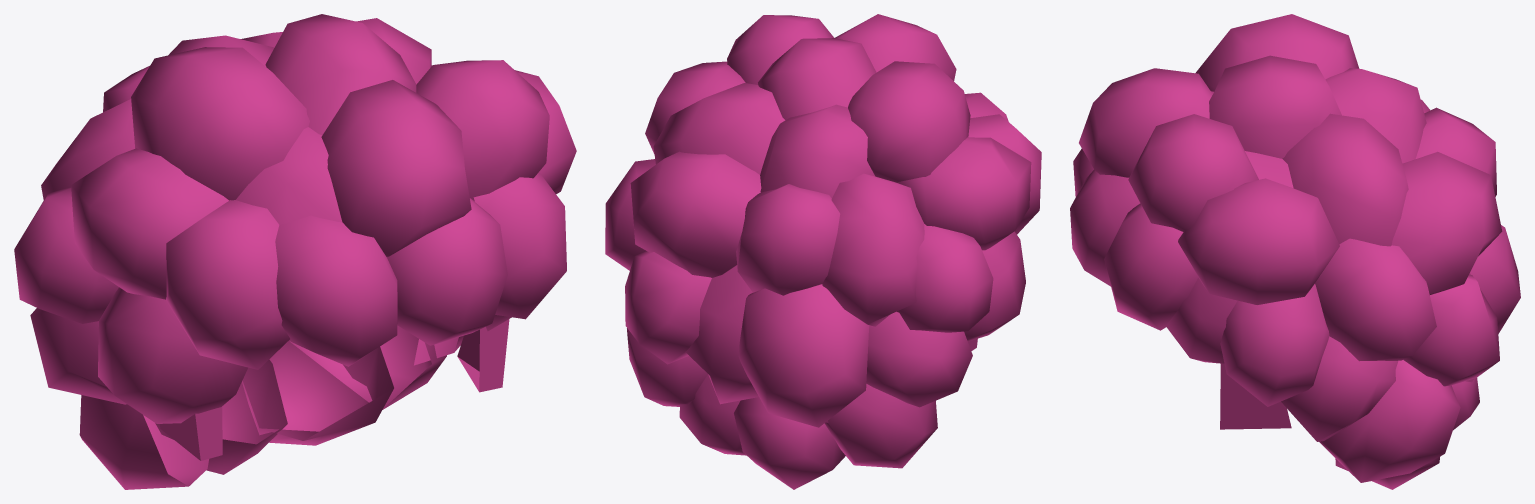
The model's file is Male_Hairs_04_v2.fbx.
The picture shows the model from 3 angles, left to right: view 1: azimuth 30°, elevation 25°; view 2: azimuth 150°, elevation 25°; view 3: azimuth 270°, elevation 25°; orthographic projection. The views are drawn at different scales.
Parts seen in each view (by area): view 1: Male_Hairs_04_v2; view 2: Male_Hairs_04_v2; view 3: Male_Hairs_04_v2.
Boxes of the visible parts, bbox=[...] form: Male_Hairs_04_v2: bbox=[14, 14, 576, 489]; Male_Hairs_04_v2: bbox=[605, 14, 1041, 489]; Male_Hairs_04_v2: bbox=[1070, 14, 1520, 489].
Size of the model in its own units: 78.16 by 75.37 by 76.42.
